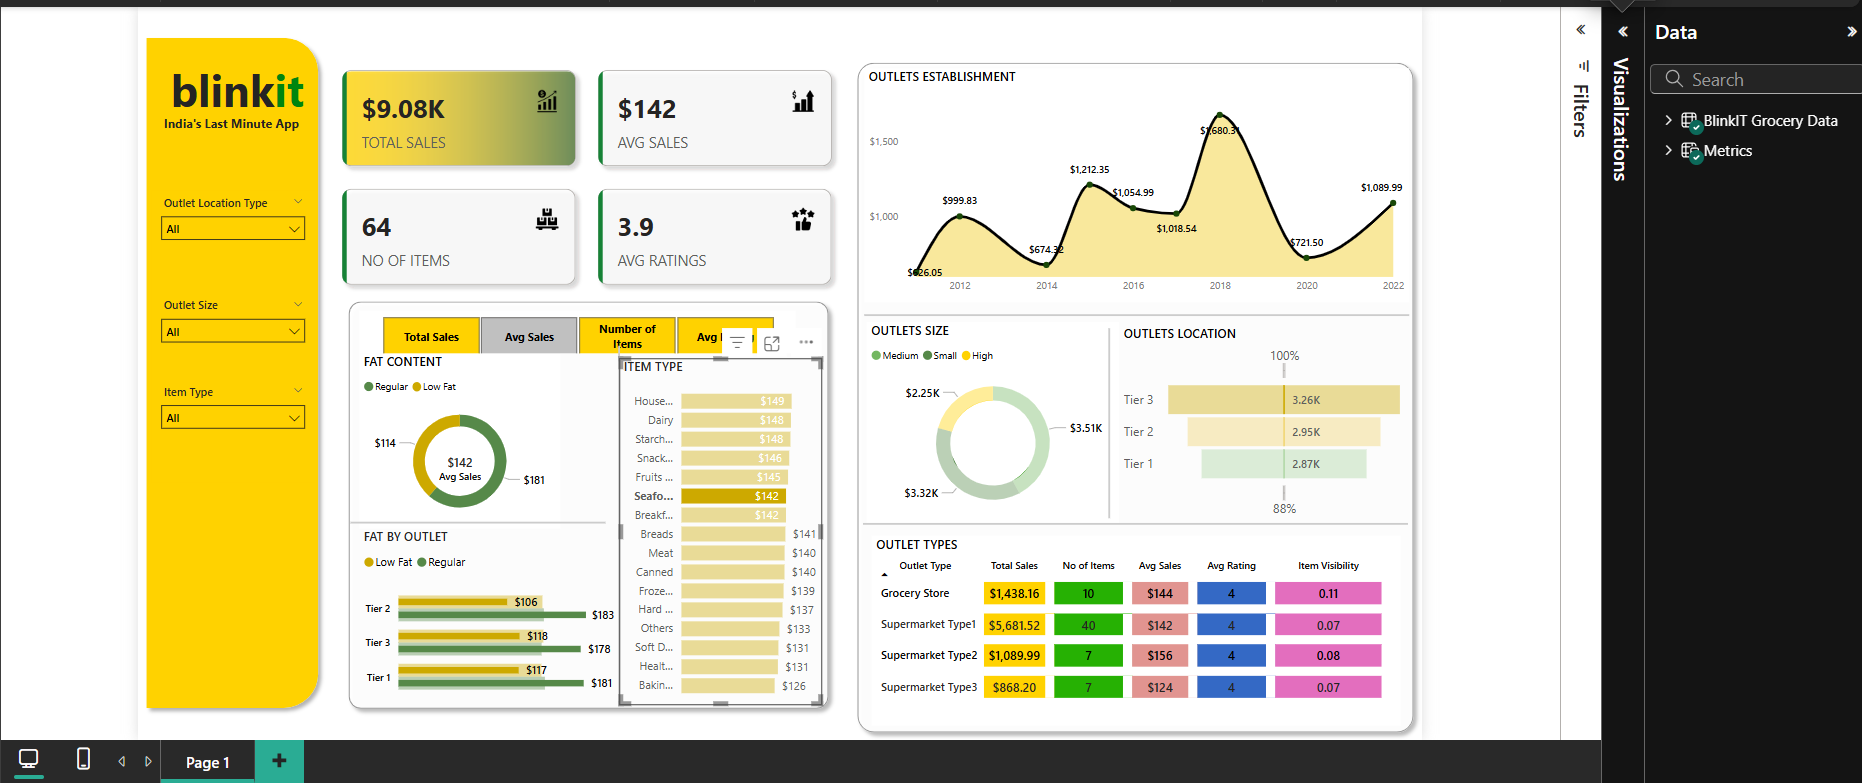

Layout of this report page (visuals, bound fields, positions):
{"tool":"powerbi","page":{"name":"Page 1","canvas":[1400,800],"ordinal":0},"visuals":[{"type":"shape","box":[0,24.5,205.9,749.8],"z":0},{"type":"textbox","box":[23.2,51.8,170.4,77.7],"z":1000},{"type":"textbox","box":[23.2,113.2,170.4,32.7],"z":2000},{"type":"cardVisual","fields":{"Data":["BlinkIT Grocery Data.Total Sales","BlinkIT Grocery Data.Avg Sales","BlinkIT Grocery Data.Number of Items","BlinkIT Grocery Data.Avg Rating"]},"box":[205.9,51.8,569.9,269.9],"z":3000},{"type":"shape","box":[220.9,312.2,541.2,462.2],"z":4000},{"type":"donutChart","title":"FAT CONTENT","fields":{"Y":["BlinkIT Grocery Data.Avg Sales"],"Category":["BlinkIT Grocery Data.Item Fat Content"]},"box":[241.3,377.6,219.5,190.9],"z":5000},{"type":"slicer","fields":{"Values":["Metrics.Metrics"]},"box":[241.3,331.3,475.8,46.4],"z":6000},{"type":"cardVisual","fields":{"Data":["BlinkIT Grocery Data.Avg Sales"]},"box":[306.8,462.2,90,81.8],"z":7000},{"type":"clusteredBarChart","title":"FAT BY OUTLET","fields":{"Y":["BlinkIT Grocery Data.Avg Sales"],"Category":["BlinkIT Grocery Data.Outlet Location Type"],"Series":["BlinkIT Grocery Data.Item Fat Content"]},"box":[241.3,568.5,283.6,197.7],"z":8000},{"type":"shape","box":[231.8,544,278.1,36.8],"z":9000},{"type":"shape","box":[419.9,369.5,210,388.6],"z":10000},{"type":"barChart","title":"ITEM TYPE","fields":{"Y":["BlinkIT Grocery Data.Avg Sales"],"Category":["BlinkIT Grocery Data.Item Type"]},"box":[524.9,383.1,220.9,379],"z":11000},{"type":"shape","box":[775.7,51.8,624.4,748.5],"z":12000},{"type":"lineChart","title":"OUTLETS ESTABLISHMENT","fields":{"Category":["BlinkIT Grocery Data.Outlet Establishment Year"],"Y":["BlinkIT Grocery Data.Total Sales"]},"box":[792.1,66.8,594.4,254.9],"z":13000},{"type":"shape","box":[792.1,317.7,594.4,36.8],"z":14000},{"type":"donutChart","title":"OUTLETS SIZE","fields":{"Y":["BlinkIT Grocery Data.Total Sales"],"Category":["BlinkIT Grocery Data.Outlet Size"]},"box":[794.8,343.6,275.4,219.5],"z":15000},{"type":"shape","box":[920.3,350.4,278.1,207.2],"z":16000},{"type":"funnel","title":"OUTLETS LOCATION","fields":{"Category":["BlinkIT Grocery Data.Outlet Location Type"],"Y":["Sum(BlinkIT Grocery Data.Sales)"]},"box":[1070.2,346.3,316.3,216.8],"z":17000},{"type":"shape","box":[790.7,545.3,594.4,36.8],"z":18000},{"type":"pivotTable","title":"OUTLET TYPES","fields":{"Values":["BlinkIT Grocery Data.Total Sales","BlinkIT Grocery Data.Number of Items","BlinkIT Grocery Data.Avg Sales","BlinkIT Grocery Data.Avg Rating","Avg(BlinkIT Grocery Data.Item Visibility)"],"Rows":["BlinkIT Grocery Data.Outlet Type"]},"box":[800.3,576.7,576.7,207.2],"z":19000},{"type":"slicer","fields":{"Values":["BlinkIT Grocery Data.Outlet Location Type"]},"box":[15,200.4,177.2,111.8],"z":20000},{"type":"slicer","fields":{"Values":["BlinkIT Grocery Data.Outlet Size"]},"box":[15,312.2,177.2,111.8],"z":21000},{"type":"slicer","fields":{"Values":["BlinkIT Grocery Data.Item Type"]},"box":[15,406.3,177.2,111.8],"z":22000}]}

Visuals, with their boxes on the page's 1400x800 design canvas (x1, y1, x2, y2). These are canvas units, not pixel positions in the 1862x783 screenshot, which may show the page scaled, cropped or inside an application window:
shape: (0,24,206,774)
textbox: (23,52,194,130)
textbox: (23,113,194,146)
cardVisual - BlinkIT Grocery Data.Total Sales x BlinkIT Grocery Data.Avg Sales: (206,52,776,322)
shape: (221,312,762,774)
"FAT CONTENT" donutChart: (241,378,461,568)
slicer - Metrics.Metrics: (241,331,717,378)
cardVisual - BlinkIT Grocery Data.Avg Sales: (307,462,397,544)
"FAT BY OUTLET" clusteredBarChart: (241,568,525,766)
shape: (232,544,510,581)
shape: (420,370,630,758)
"ITEM TYPE" barChart: (525,383,746,762)
shape: (776,52,1400,800)
"OUTLETS ESTABLISHMENT" lineChart: (792,67,1386,322)
shape: (792,318,1386,354)
"OUTLETS SIZE" donutChart: (795,344,1070,563)
shape: (920,350,1198,558)
"OUTLETS LOCATION" funnel: (1070,346,1386,563)
shape: (791,545,1385,582)
"OUTLET TYPES" pivotTable: (800,577,1377,784)
slicer - BlinkIT Grocery Data.Outlet Location Type: (15,200,192,312)
slicer - BlinkIT Grocery Data.Outlet Size: (15,312,192,424)
slicer - BlinkIT Grocery Data.Item Type: (15,406,192,518)
